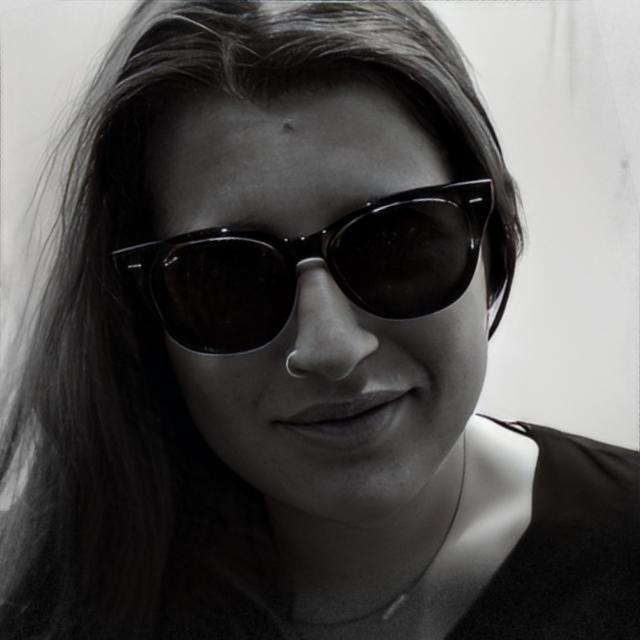content: (137, 96, 486, 519)
